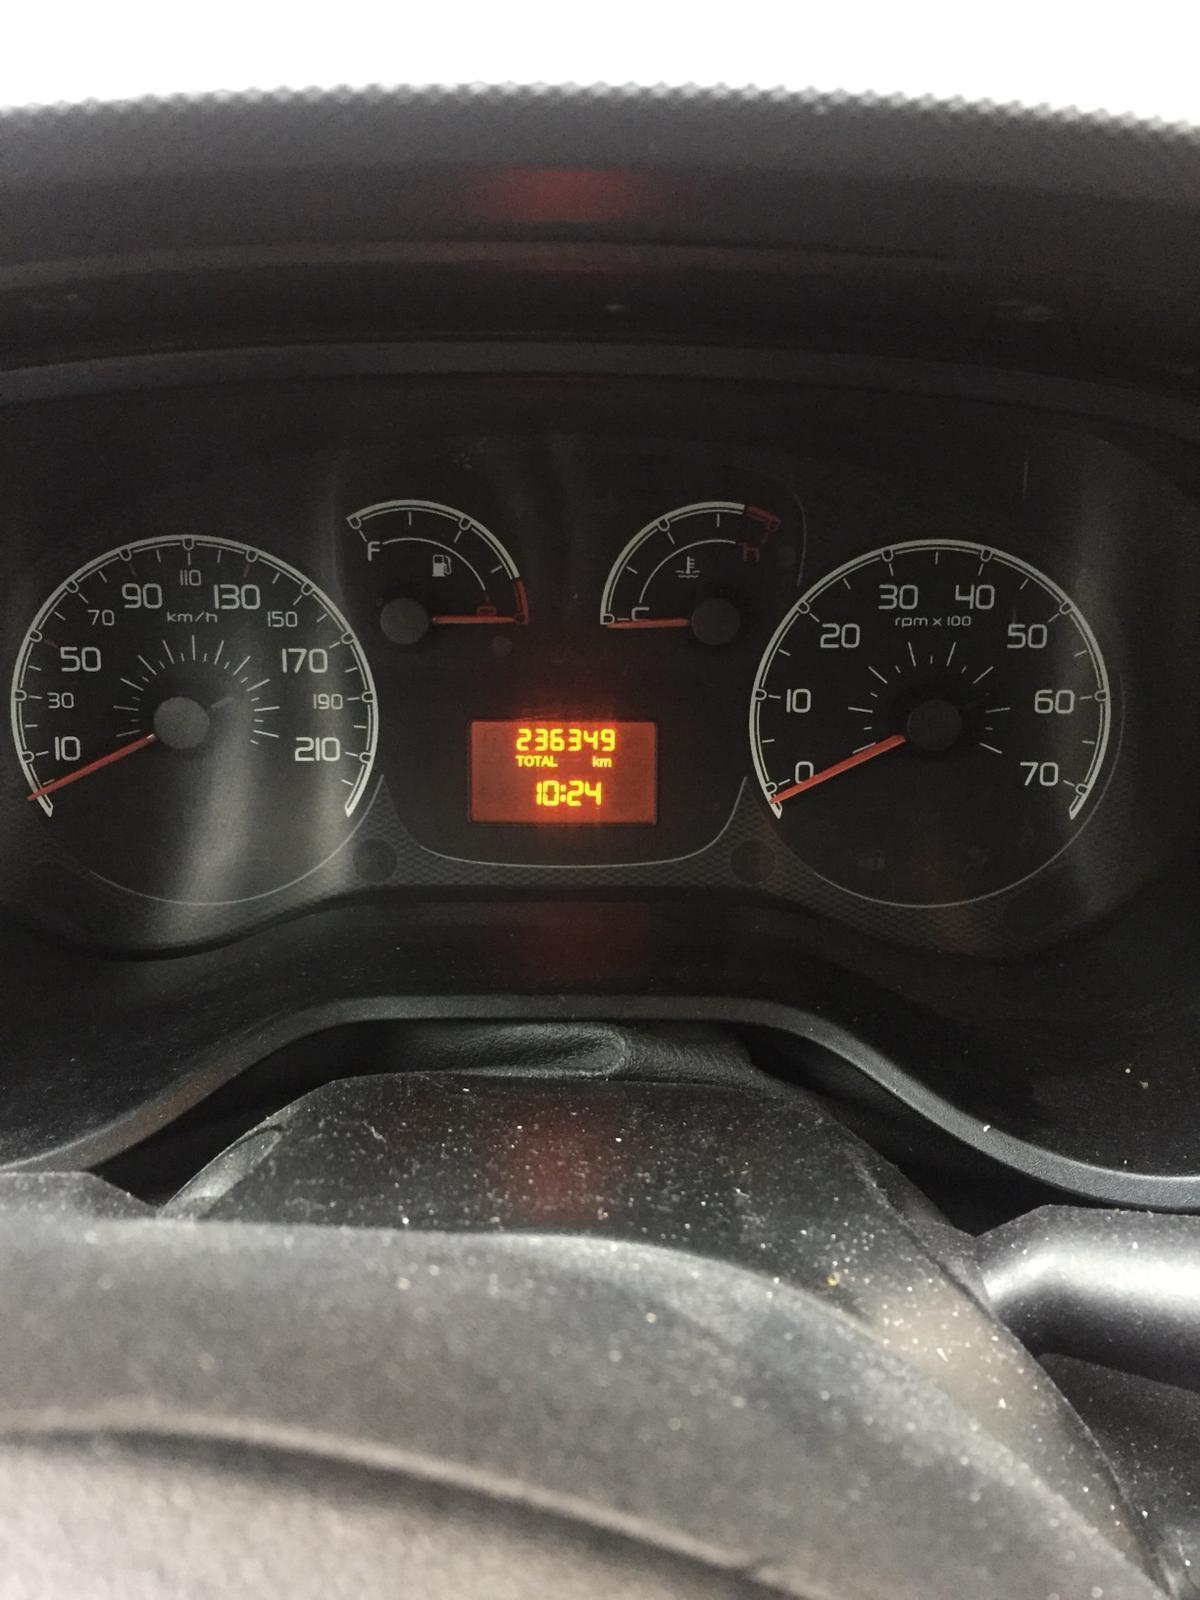0: (542, 779, 558, 806)
1: (536, 779, 542, 808)
2: (567, 779, 584, 808), (516, 727, 531, 750)
3: (534, 727, 548, 751), (568, 728, 581, 752)
4: (584, 780, 603, 805), (584, 728, 597, 750)
6: (550, 727, 565, 751)
9: (600, 726, 616, 751)
X: (550, 753, 560, 769), (524, 753, 534, 769), (514, 753, 524, 769), (599, 756, 611, 767), (560, 784, 566, 804), (534, 753, 542, 769), (542, 755, 550, 769), (592, 753, 599, 769)
odometer: (463, 716, 661, 829)
